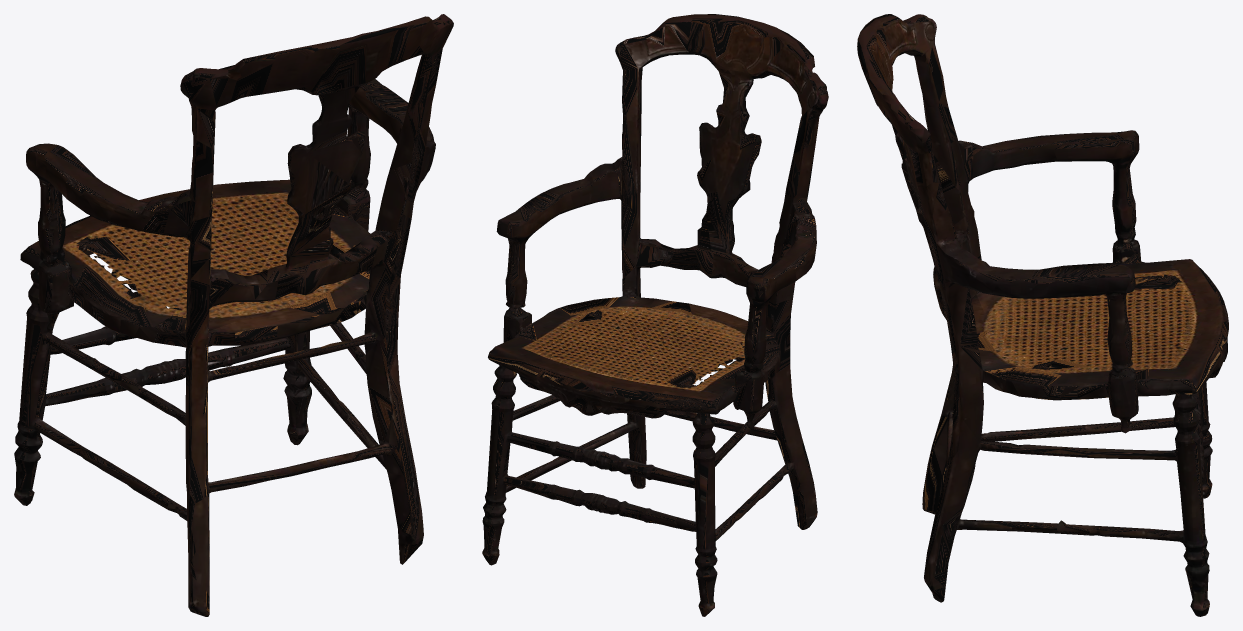
File: literary_club_chair_preview.glb
The picture shows the model from 3 angles, left to right: view 1: azimuth 30°, elevation 25°; view 2: azimuth 150°, elevation 25°; view 3: azimuth 270°, elevation 25°; orthographic projection. The views are drawn at different scales.
Parts seen in each view (by area): view 1: Object_2; view 2: Object_2; view 3: Object_2.
Boxes of the visible parts, x1,y1,x2,y2 form: Object_2: (14, 14, 453, 616); Object_2: (482, 14, 828, 616); Object_2: (857, 14, 1228, 616).
Bounding box in the file's own units: 600 × 980 × 637.
Materials: 1 (1 with a texture image).
